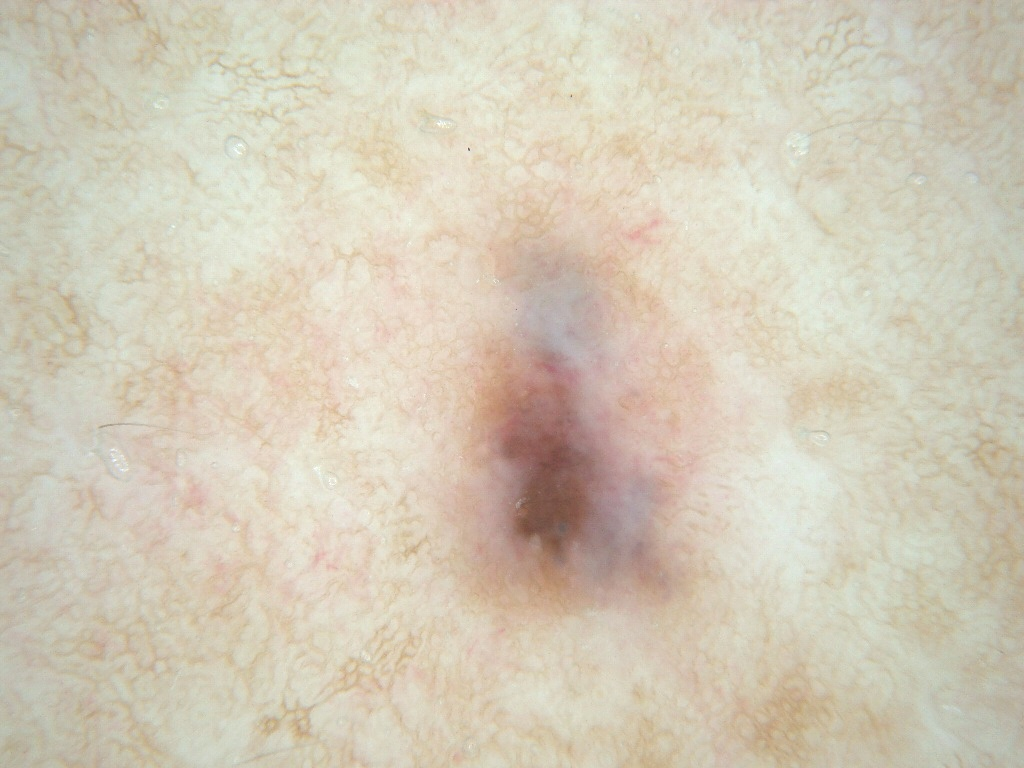Detected Lesion: (449, 261, 709, 604)
